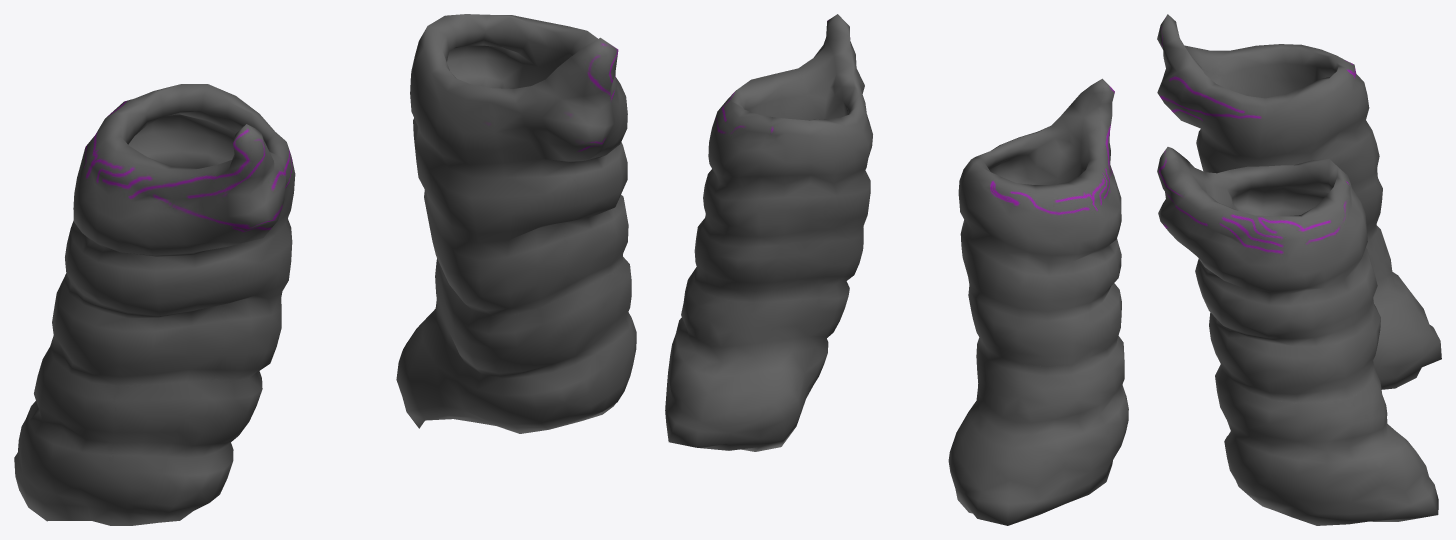
File: kmi_gaiters.fbx
The picture shows the model from 3 angles, left to right: view 1: azimuth 30°, elevation 25°; view 2: azimuth 150°, elevation 25°; view 3: azimuth 270°, elevation 25°; orthographic projection. The views are drawn at different scales.
Visible parts, largest first — view 1: Extract3_4; view 2: Extract3_4; view 3: Extract3_4.
Part boxes in pixels (x1,y1,x2,y2): Extract3_4: (14,14,636,525); Extract3_4: (665,14,1128,525); Extract3_4: (1157,14,1441,525).
Bounding box in the file's own units: 0.5943 × 0.4647 × 0.3298.
1 material, 1 textured.
